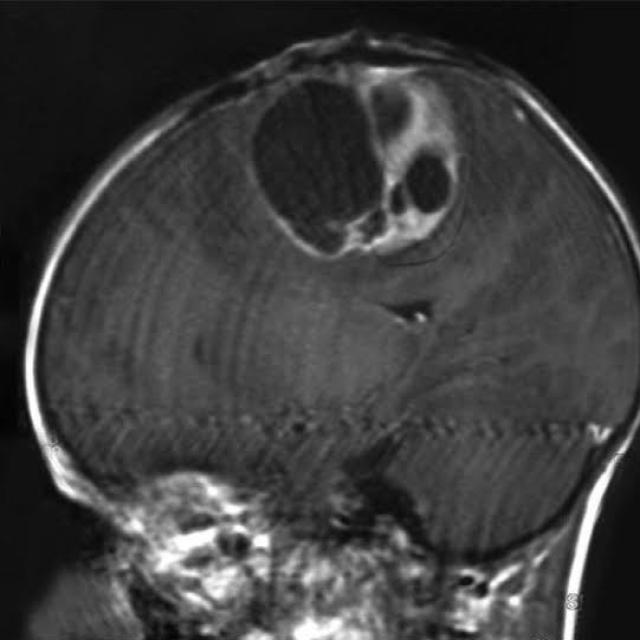glioma: (252, 75, 458, 252)
